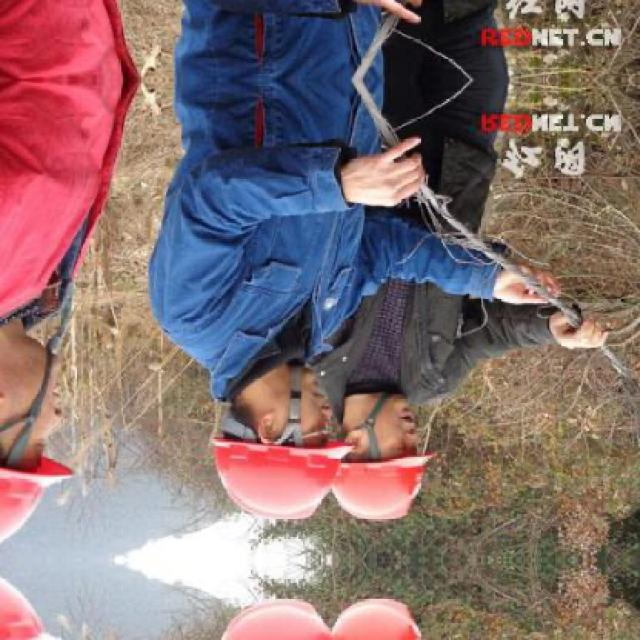con casco: (201, 344, 422, 512), (0, 310, 100, 548), (306, 397, 422, 551)
